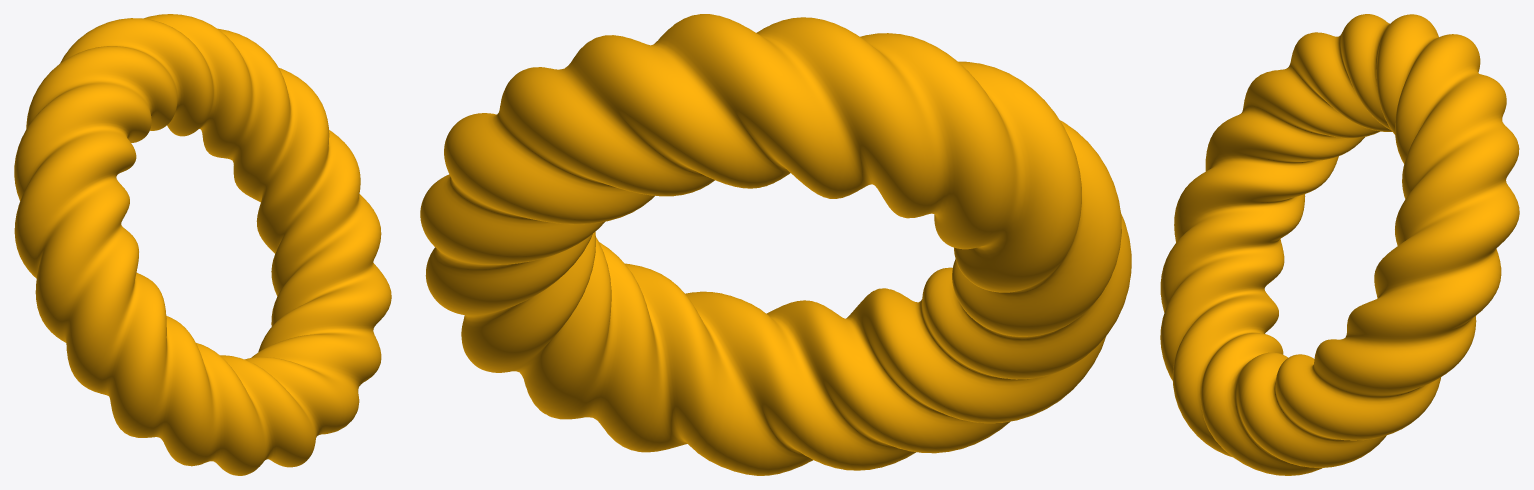
File: twisted-circle-abstract-shape-animated-3d-icon-1057449839409.glb
3 renders of one model, left to right at view 1: azimuth 30°, elevation 25°; view 2: azimuth 150°, elevation 25°; view 3: azimuth 270°, elevation 25°, orthographic. The views are drawn at different scales.
Visible parts, largest first — view 1: Twisted Circle; view 2: Twisted Circle; view 3: Twisted Circle.
Boxes of the visible parts, x1,y1,x2,y2 form: Twisted Circle: (14, 14, 391, 475); Twisted Circle: (420, 14, 1131, 475); Twisted Circle: (1160, 14, 1519, 475).
Bounding box in the file's own units: 1.87 × 1.75 × 1.46.
